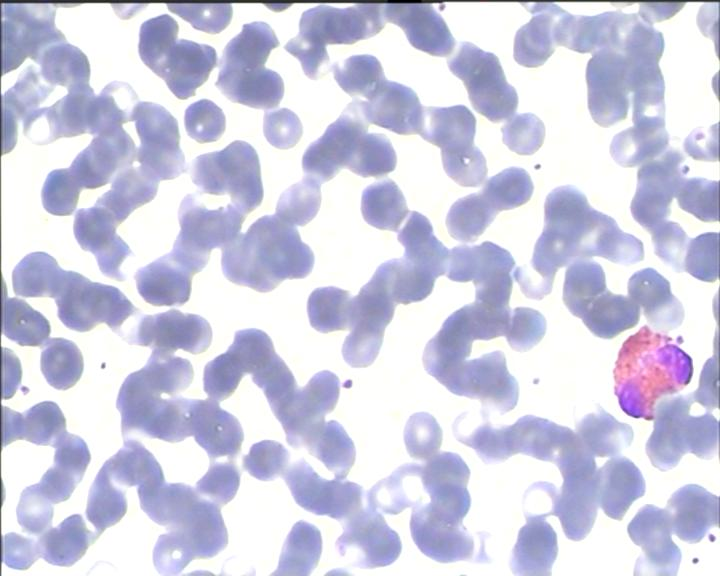eosi: (609, 322, 694, 423)
